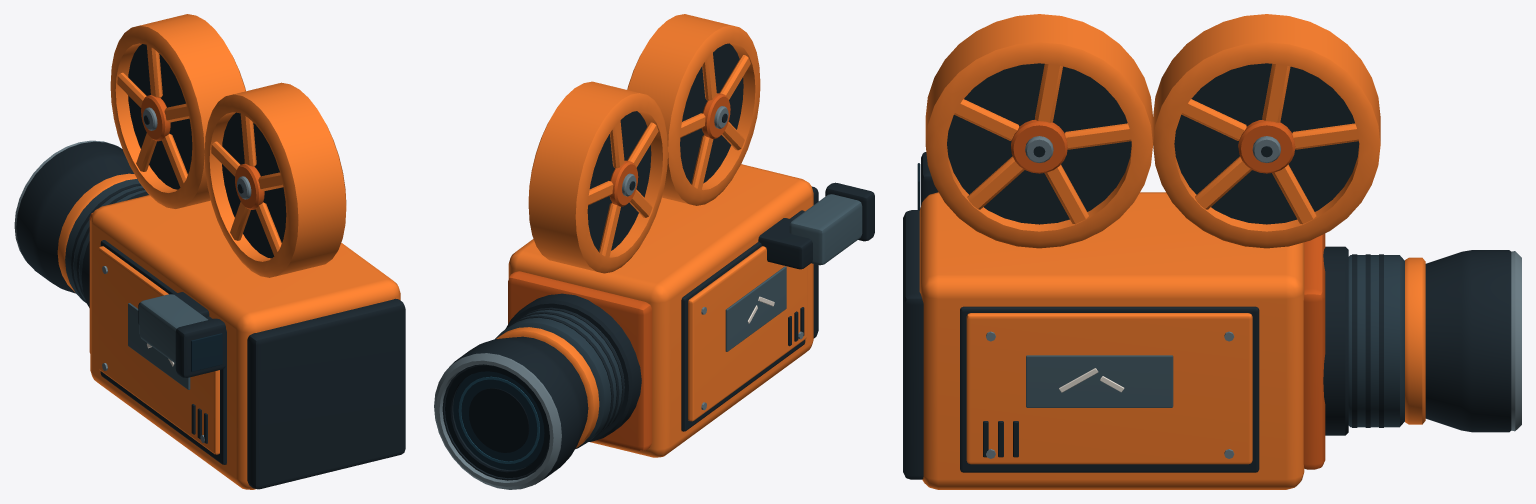
File: SM_EditorCamera_Nau.gltf
3 views of the same model, side by side, from view 1: azimuth 30°, elevation 25°; view 2: azimuth 150°, elevation 25°; view 3: azimuth 270°, elevation 25° (orthographic). The views are drawn at different scales.
Visible parts, largest first — view 1: SM_EditorCamera_Nau; view 2: SM_EditorCamera_Nau; view 3: SM_EditorCamera_Nau.
Part boxes in pixels (x1,y1,x2,y2): SM_EditorCamera_Nau: [14, 14, 405, 489]; SM_EditorCamera_Nau: [434, 14, 874, 489]; SM_EditorCamera_Nau: [903, 14, 1521, 489].
Bounding box in the file's own units: 0.3925 × 0.554 × 0.74.
Materials: 1 (1 with a texture image).
